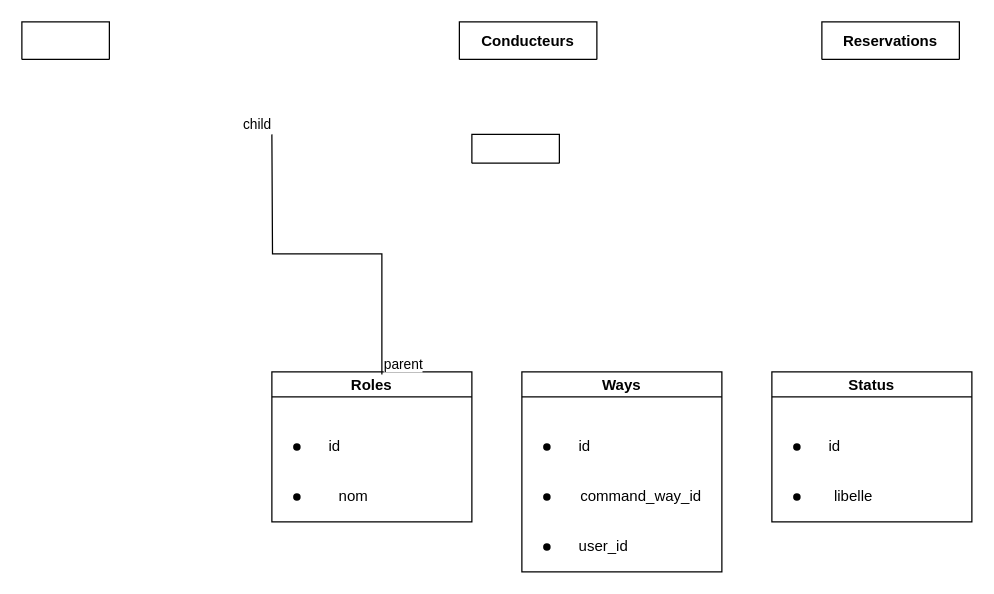
This 994x594 diagram has some shape labels left out. The centre of each missing label's shape, as x and y in pixels:
"Clients" goes at point (515, 148).
"Users" goes at point (65, 40).
